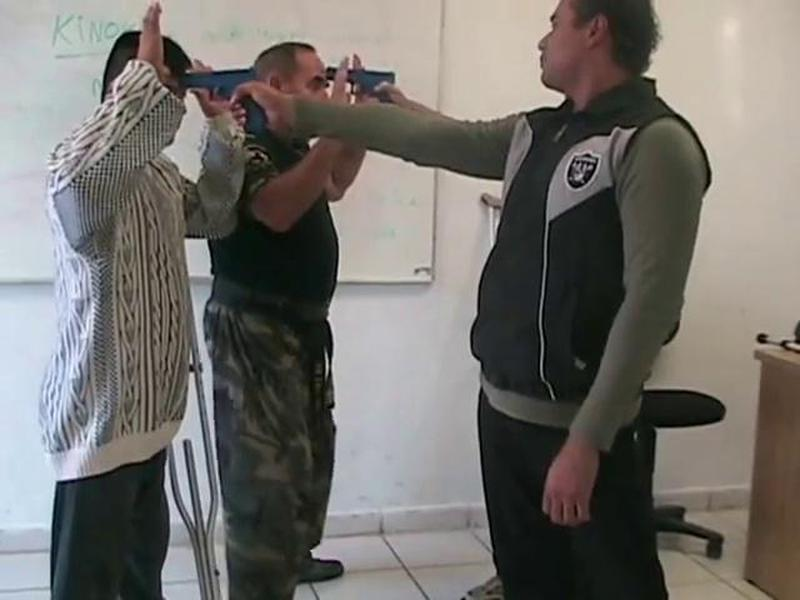Pistola: (166, 44, 276, 138)
